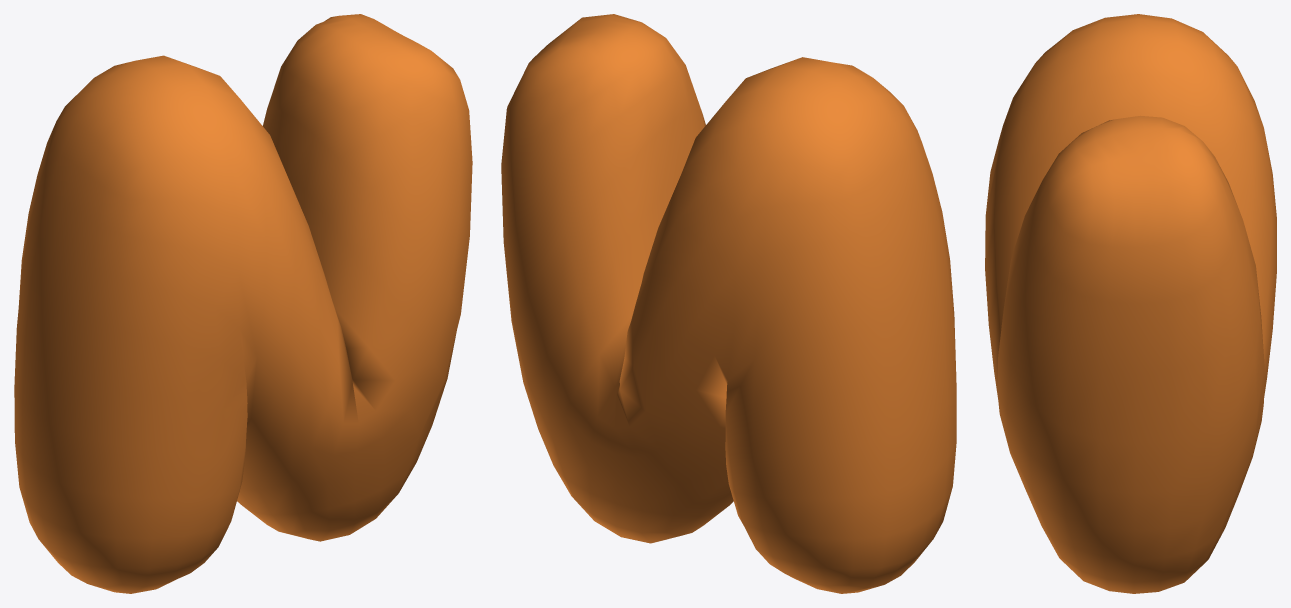
3 renders of one model, left to right at view 1: azimuth 30°, elevation 25°; view 2: azimuth 150°, elevation 25°; view 3: azimuth 270°, elevation 25°, orthographic. The views are drawn at different scales.
Visible parts, largest first — view 1: Object_34; view 2: Object_34; view 3: Object_34.
Part boxes in pixels (x1=…): Object_34: x1=14, y1=14, x2=472, y2=593; Object_34: x1=501, y1=14, x2=956, y2=593; Object_34: x1=985, y1=14, x2=1276, y2=593.
Bounding box in the file's own units: 82.88 × 97.22 × 52.18.
